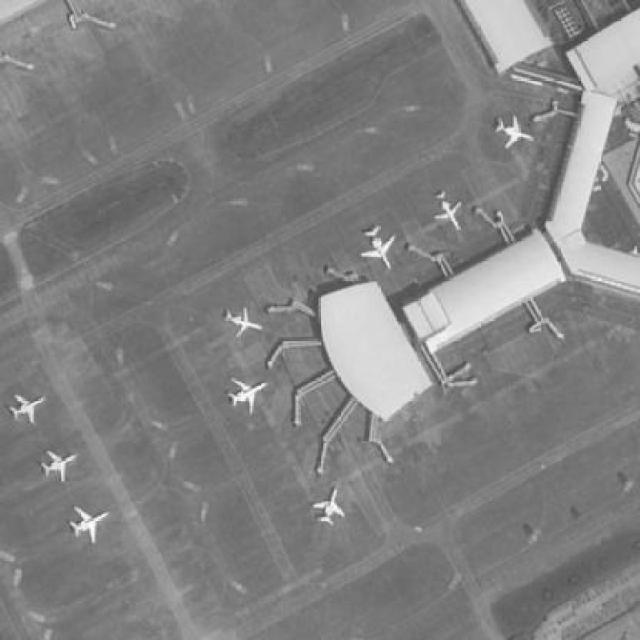airplane: (357, 221, 402, 273), (64, 503, 116, 547), (223, 374, 271, 420), (308, 485, 351, 529), (490, 113, 537, 152), (37, 446, 83, 484), (431, 191, 469, 236), (6, 389, 48, 428), (219, 307, 266, 341)
